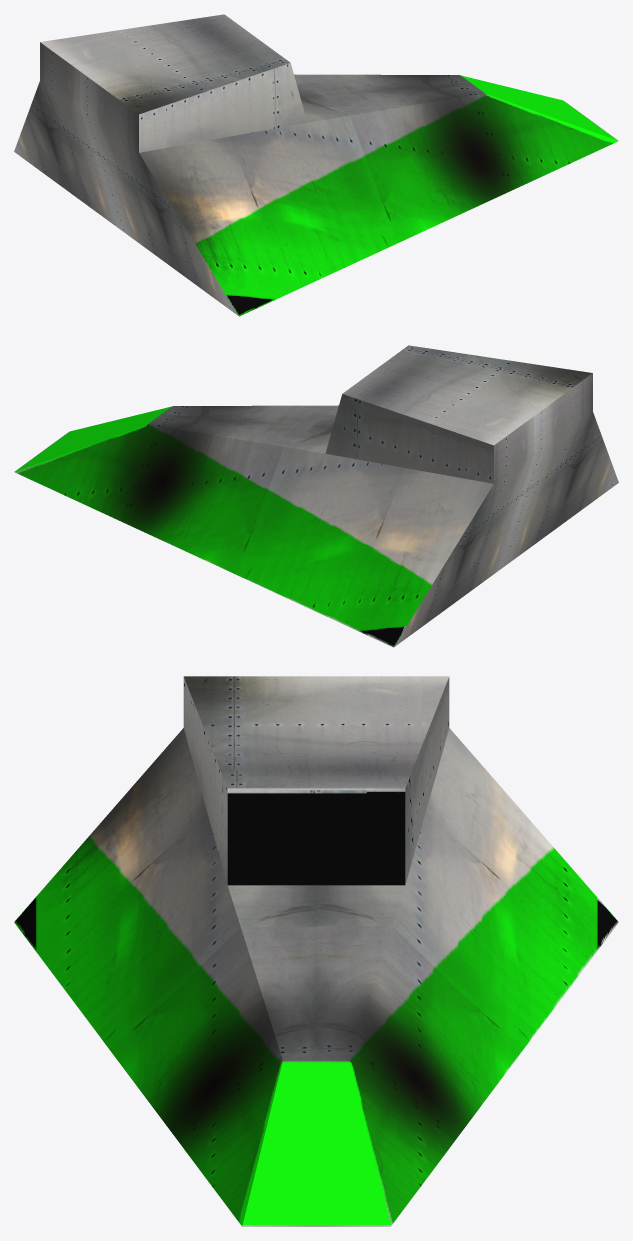
File: speedBoat01_GREEN.fbx
3 views of the same model, one above another, from view 1: azimuth 30°, elevation 25°; view 2: azimuth 150°, elevation 25°; view 3: azimuth 270°, elevation 25° (orthographic). The views are drawn at different scales.
Parts seen in each view (by area): view 1: pCube1; view 2: pCube1; view 3: pCube1.
Boxes of the visible parts, x1,y1,x2,y2 form: pCube1: [14, 14, 618, 316]; pCube1: [14, 345, 618, 647]; pCube1: [14, 676, 618, 1226].
Bounding box in the file's own units: 23.99 × 7.54 × 18.65.
1 material, 1 textured.
